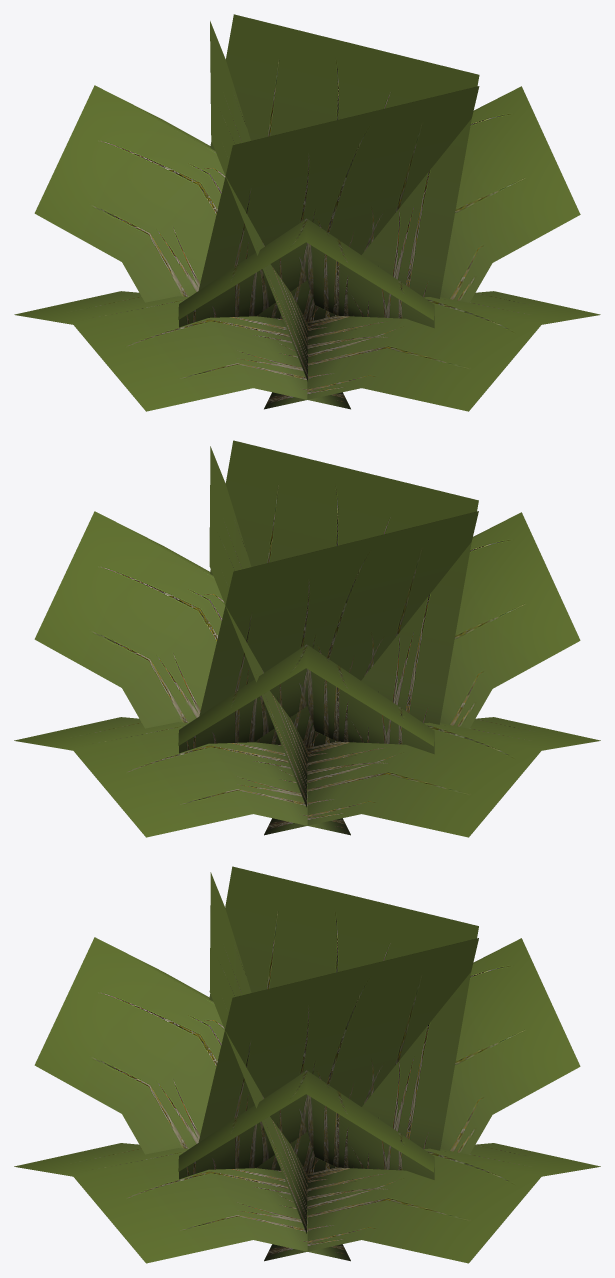
Rendered from plant_mesh_01.FBX.
The picture shows the model from 3 angles, top to bottom: view 1: azimuth 30°, elevation 25°; view 2: azimuth 150°, elevation 25°; view 3: azimuth 270°, elevation 25°; orthographic projection.
Visible parts, largest first — view 1: plant_mesh_01; view 2: plant_mesh_01; view 3: plant_mesh_01.
Boxes of the visible parts, x1=… form: plant_mesh_01: x1=14, y1=14, x2=600, y2=411; plant_mesh_01: x1=14, y1=440, x2=600, y2=837; plant_mesh_01: x1=14, y1=866, x2=600, y2=1263.
Size of the model in its own units: 546 by 321 by 620.
